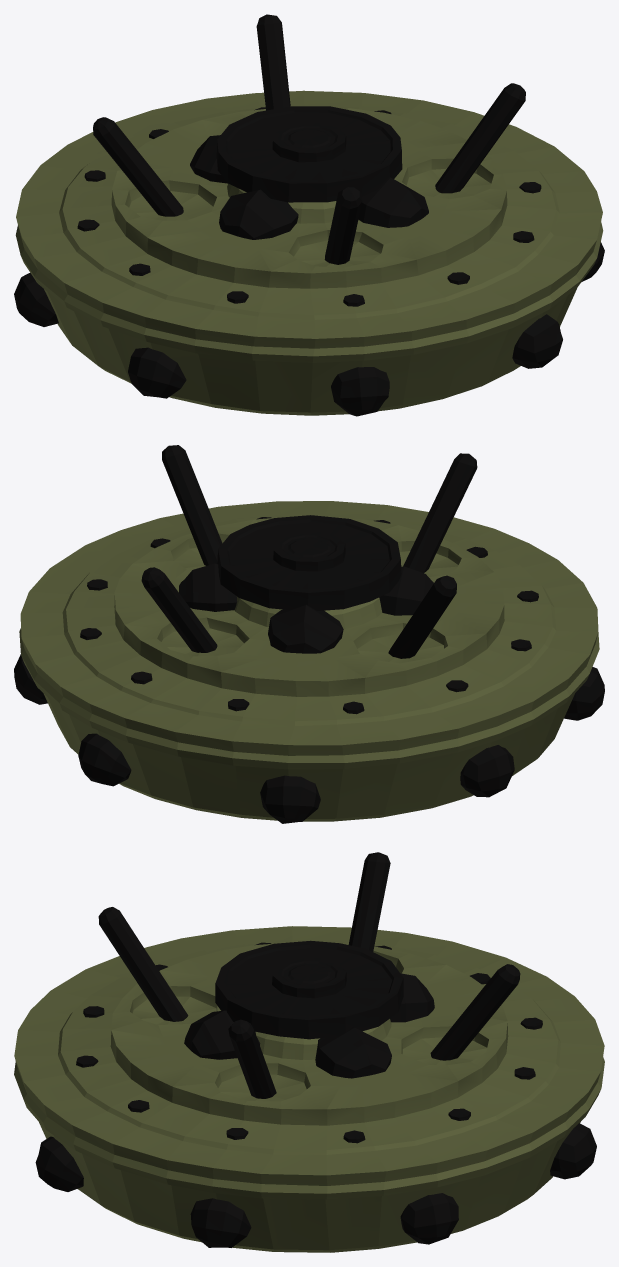
File: Mina.fbx
3 renders of one model, top to bottom at view 1: azimuth 30°, elevation 25°; view 2: azimuth 150°, elevation 25°; view 3: azimuth 270°, elevation 25°, orthographic.
Visible parts, largest first — view 1: Mina; view 2: Mina; view 3: Mina.
Part boxes in pixels (left/top/right/bottom): Mina: left=14, top=14, right=604, bottom=416; Mina: left=14, top=445, right=604, bottom=823; Mina: left=14, top=852, right=604, bottom=1252.
Size of the model in its own units: 91.98 by 36.23 by 92.08.
